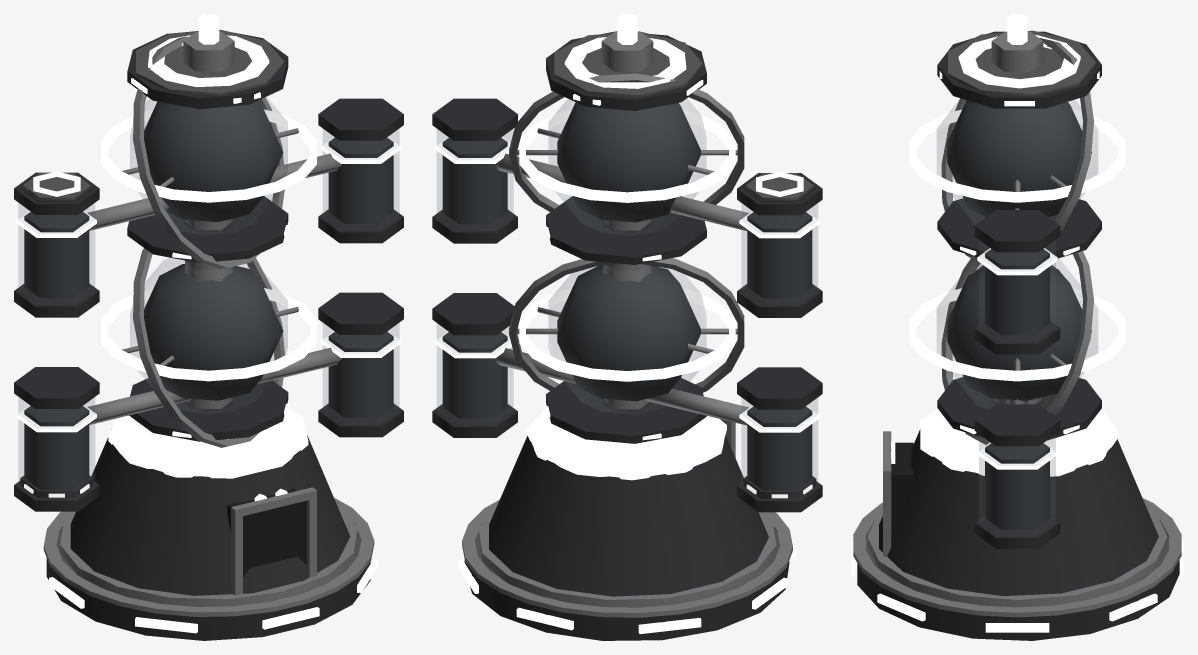
File: Skin_Reactor_T3.glb
The picture shows the model from 3 angles, left to right: view 1: azimuth 30°, elevation 25°; view 2: azimuth 150°, elevation 25°; view 3: azimuth 270°, elevation 25°; orthographic projection.
Parts seen in each view (by area): view 1: Skin_Reactor_T3; view 2: Skin_Reactor_T3; view 3: Skin_Reactor_T3.
Part boxes in pixels (x1,y1,x2,y2): Skin_Reactor_T3: [14, 14, 403, 640]; Skin_Reactor_T3: [432, 14, 822, 640]; Skin_Reactor_T3: [851, 14, 1183, 640].
Bounding box in the file's own units: 4.97 × 7.14 × 3.88.
